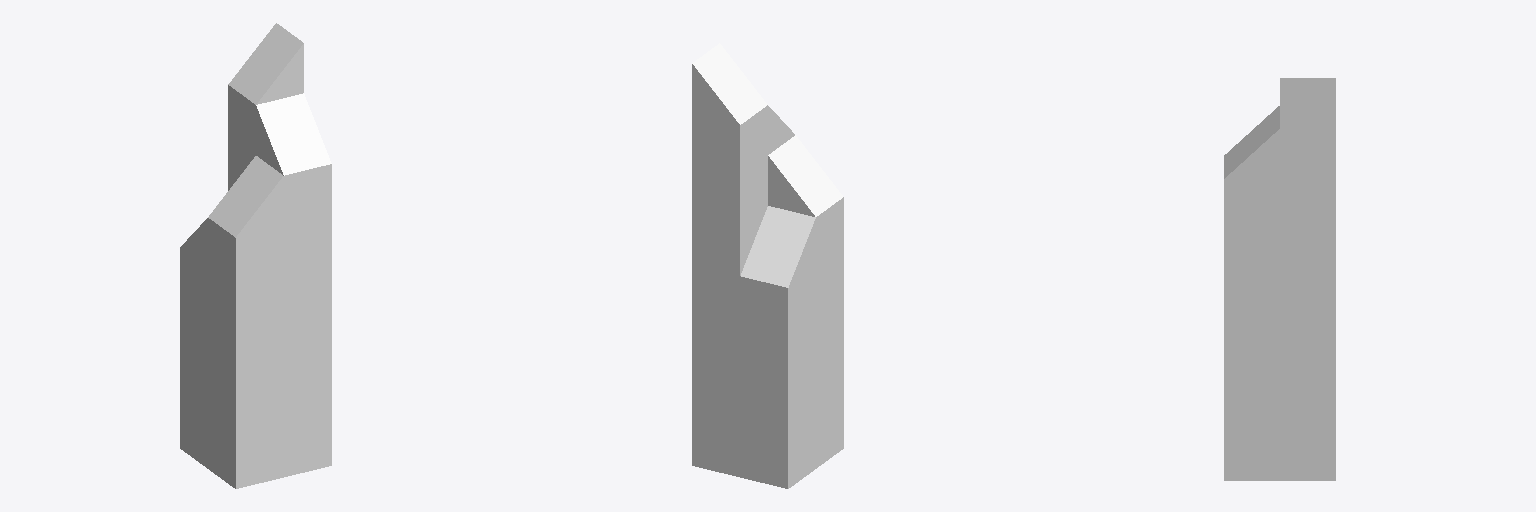
Rendered from columnPaint_damaged.obj.
3 renders of one model, left to right at view 1: azimuth 30°, elevation 25°; view 2: azimuth 150°, elevation 25°; view 3: azimuth 270°, elevation 25°, orthographic.
Parts seen in each view (by area): view 1: columnPaint_damaged; view 2: columnPaint_damaged; view 3: columnPaint_damaged.
Part boxes in pixels (bbox=[...]): columnPaint_damaged: bbox=[180, 23, 331, 488]; columnPaint_damaged: bbox=[692, 43, 843, 488]; columnPaint_damaged: bbox=[1224, 78, 1335, 480].
Bounding box in the file's own units: 0.2 × 0.8 × 0.2.